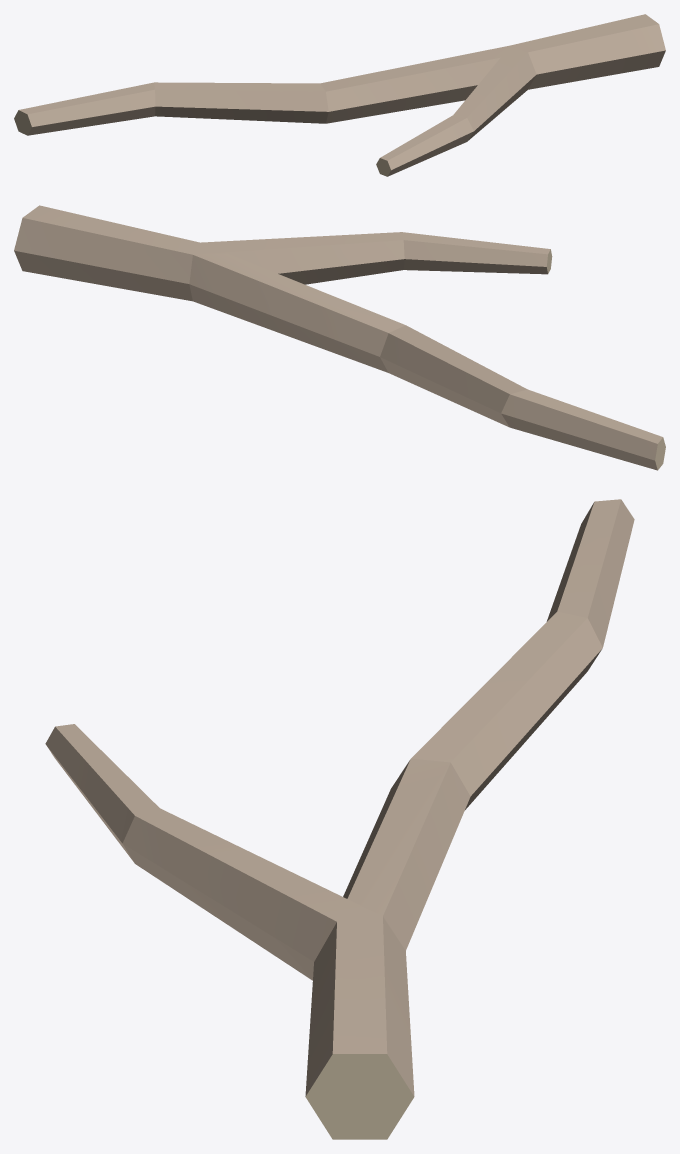
File: Prop_Branch_2.gltf
The picture shows the model from 3 angles, top to bottom: view 1: azimuth 30°, elevation 25°; view 2: azimuth 150°, elevation 25°; view 3: azimuth 270°, elevation 25°; orthographic projection. The views are drawn at different scales.
Visible parts, largest first — view 1: object1; view 2: object1; view 3: object1.
Boxes of the visible parts, box(x1,y1,x2,y2) form: object1: box(14, 14, 665, 176); object1: box(14, 205, 665, 470); object1: box(45, 499, 634, 1139).
Size of the model in its own units: 1.81 by 0.1381 by 0.8111.
